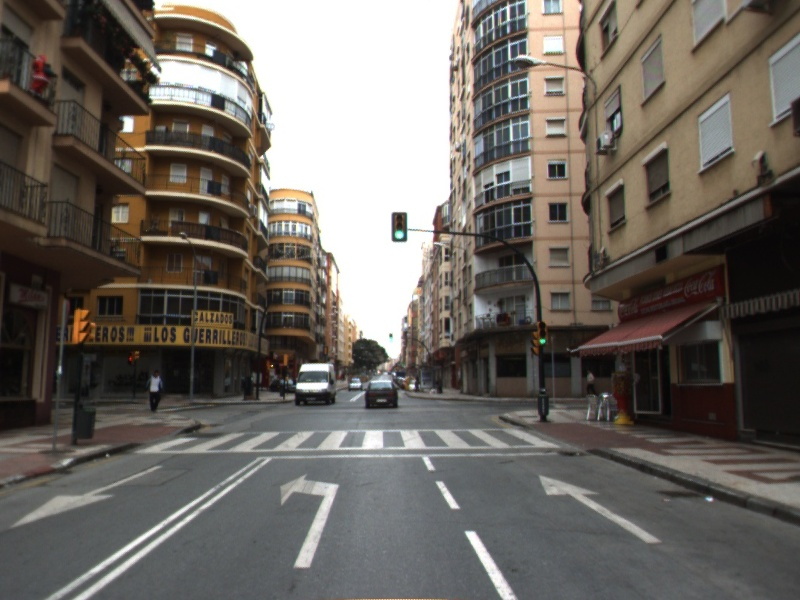LEFT: (279, 472, 341, 569)
STRAIGHT: (537, 473, 664, 545)
